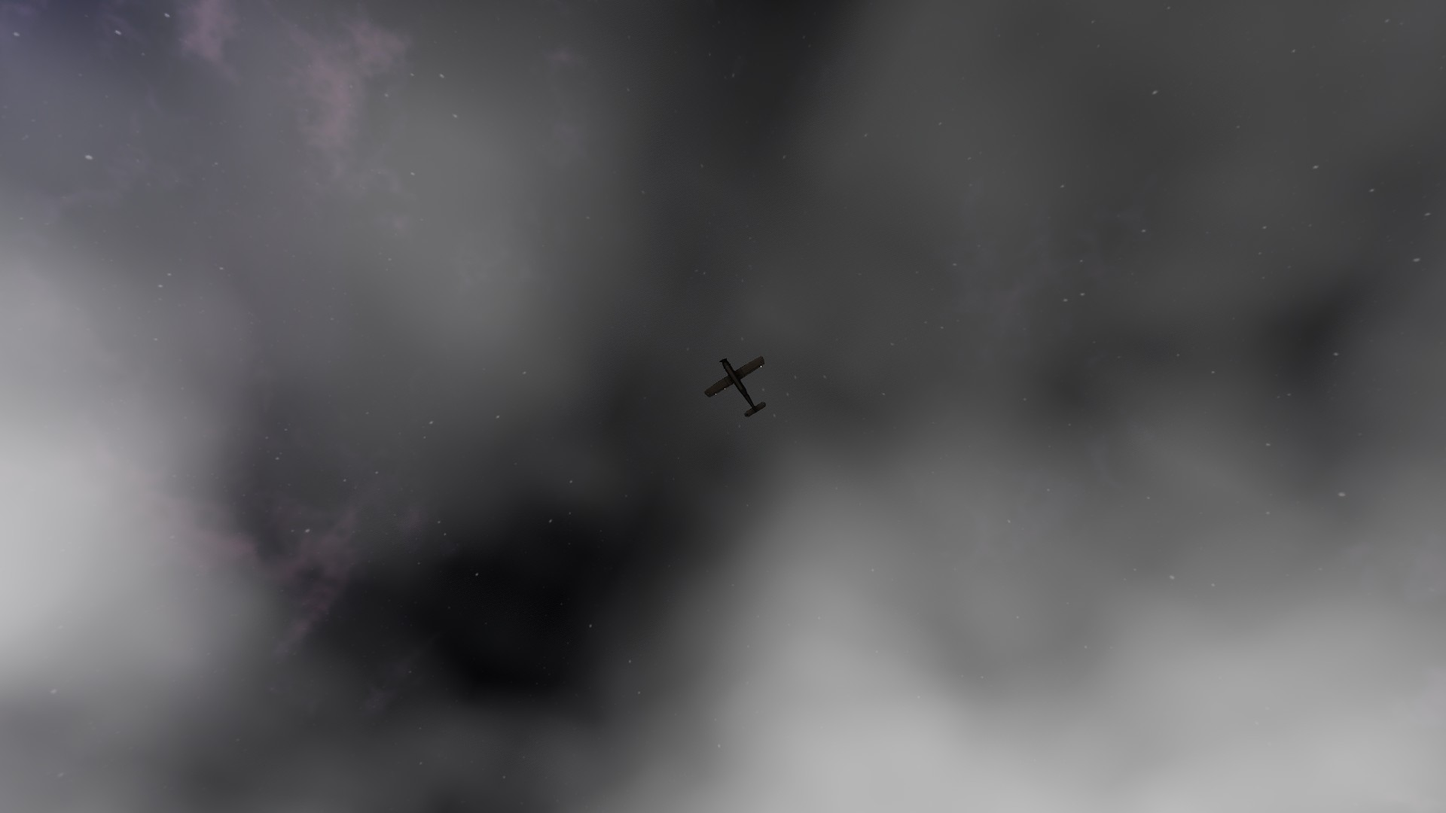drone_other: (704, 356, 766, 417)
